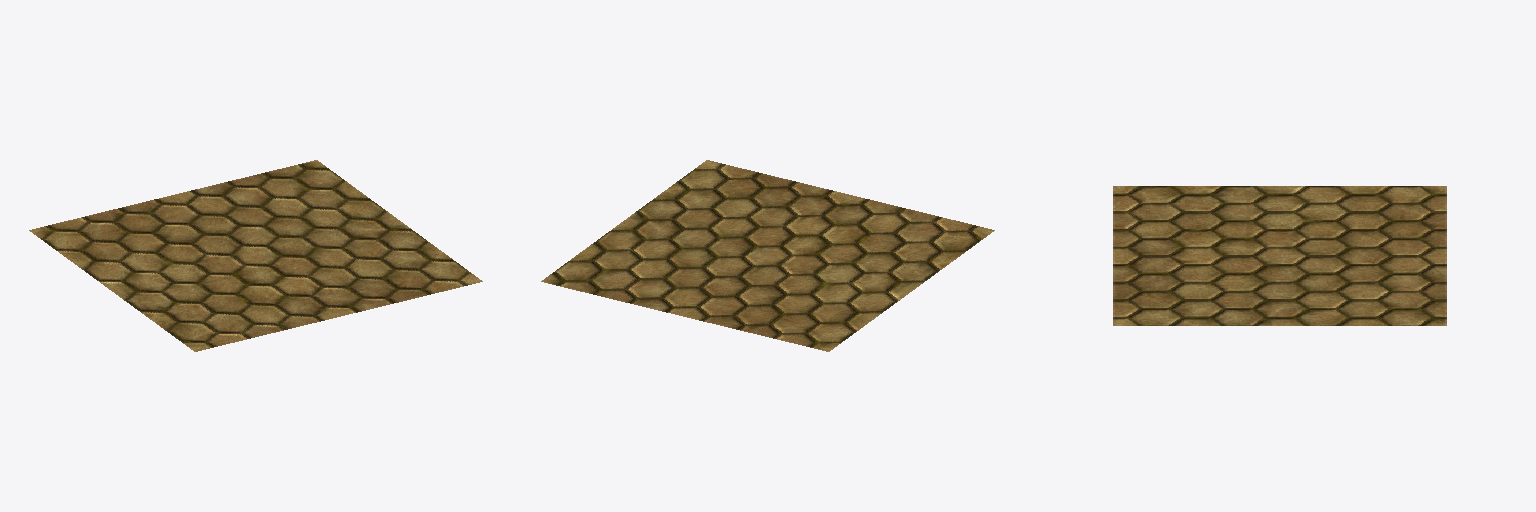
The picture shows the model from 3 angles: view 1: azimuth 30°, elevation 25°; view 2: azimuth 150°, elevation 25°; view 3: azimuth 270°, elevation 25°; orthographic projection.
Visible parts, largest first — view 1: Cube; view 2: Cube; view 3: Cube.
Boxes of the visible parts, x1,y1,x2,y2 form: Cube: [29, 160, 482, 351]; Cube: [541, 160, 994, 351]; Cube: [1113, 186, 1446, 325].
Bounding box in the file's own units: 1 × 0 × 1.
Materials: 1 (1 with a texture image).